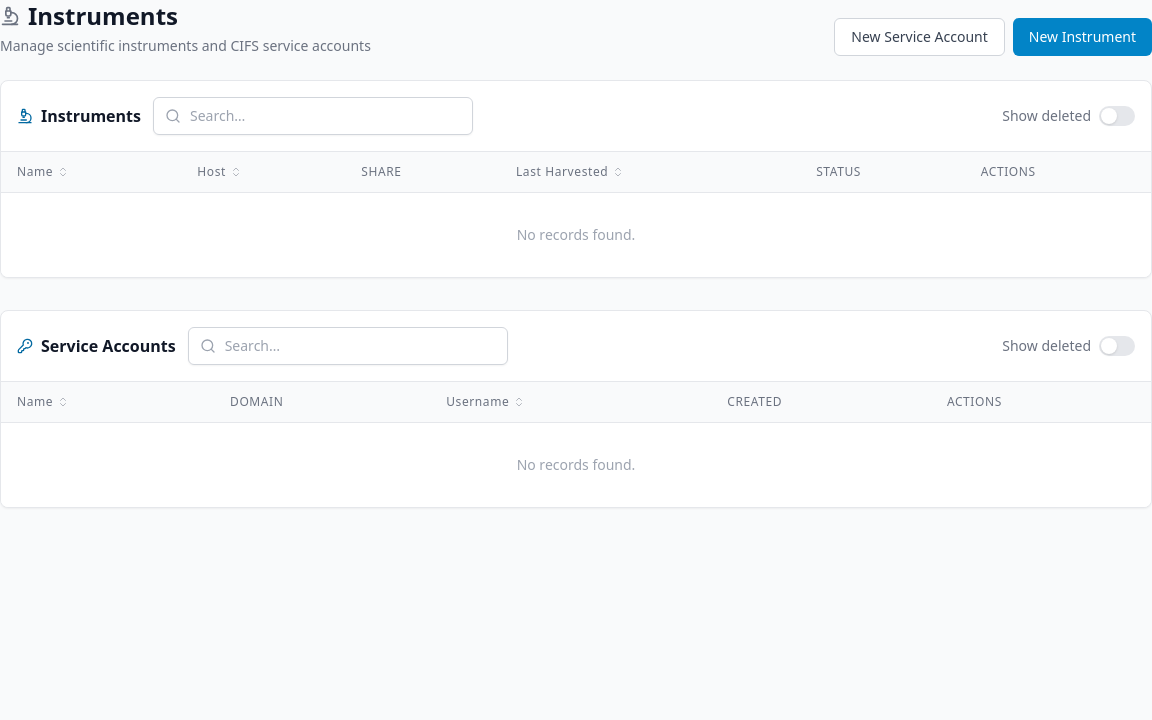
Test case: Instruments admin page › "New Instrument" button opens the create modal
The width and height of the screenshot is (1152, 720).
Click the button "New Instrument". click: (1082,37)
box: [1013,18,1151,56]
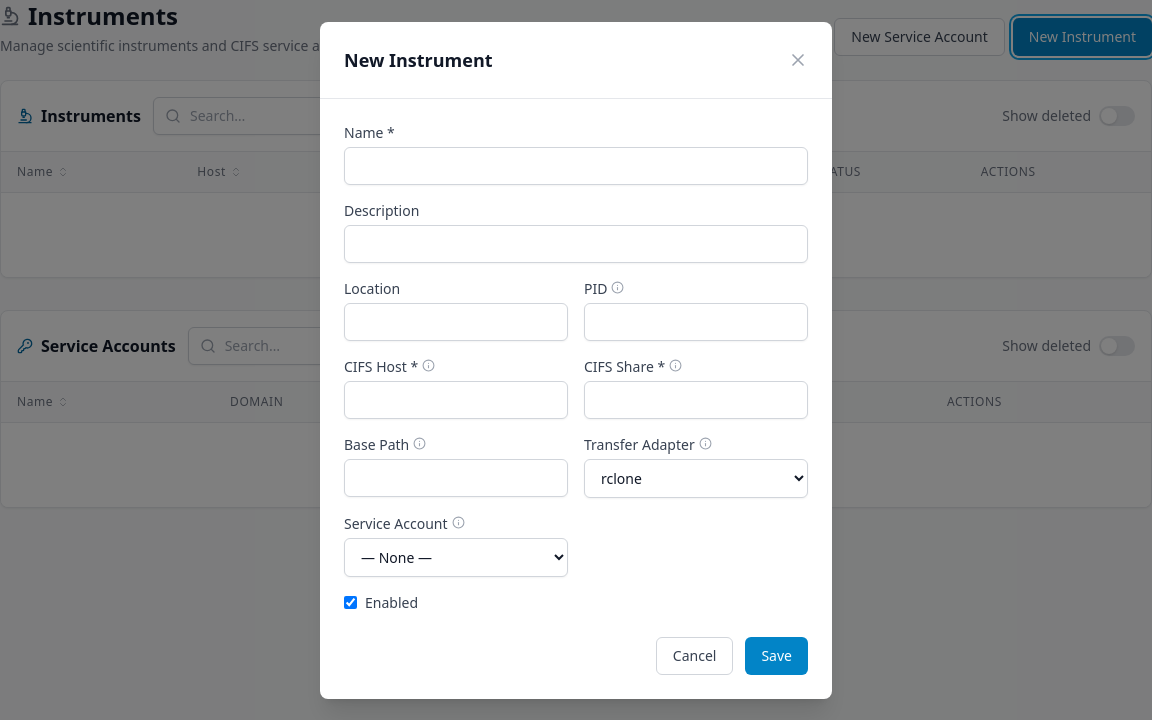
Check: the heading "New Instrument" is shown, box [344,46,492,74]
